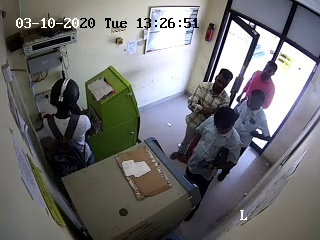helmet: (47, 74, 84, 115)
